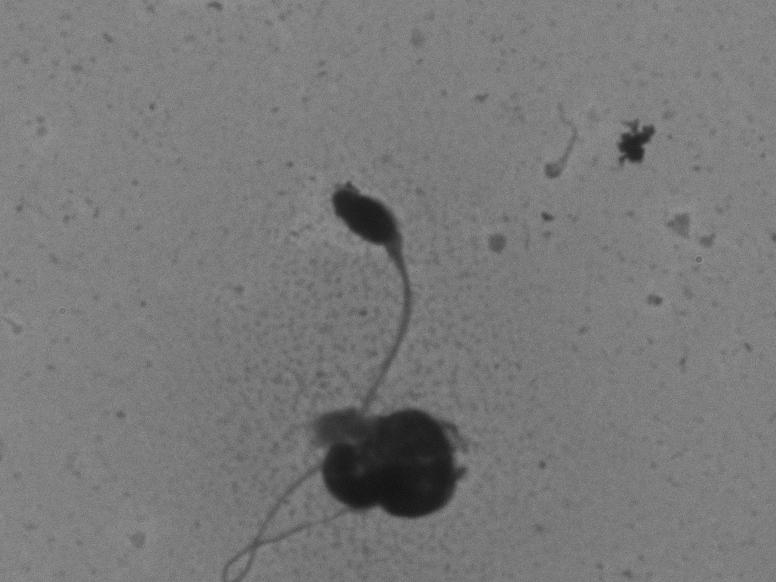Abnormal: (207, 169, 419, 575)
